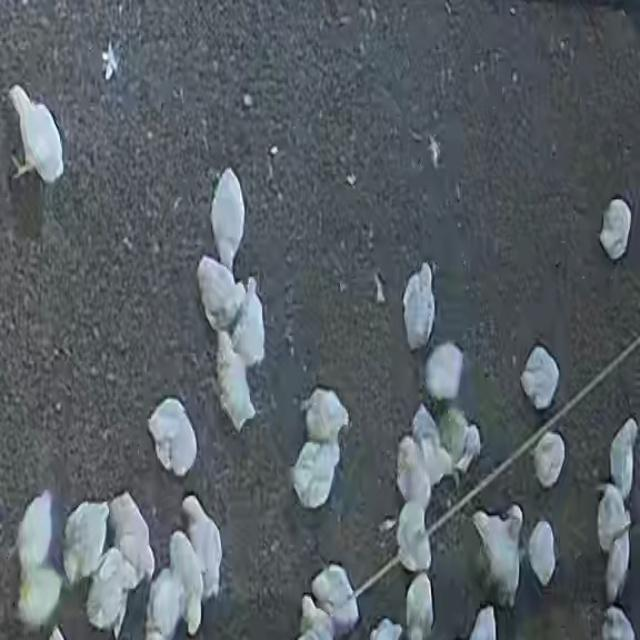chicken: (8, 85, 64, 185), (471, 506, 523, 607), (106, 492, 154, 589), (182, 494, 224, 600), (86, 548, 137, 634), (63, 498, 111, 585), (215, 335, 258, 431), (146, 397, 196, 479), (168, 529, 205, 636), (16, 490, 58, 584), (211, 167, 246, 273), (310, 561, 359, 636), (197, 256, 244, 332), (290, 439, 341, 508), (410, 404, 449, 489), (17, 564, 66, 630), (231, 277, 266, 367), (144, 568, 186, 640), (402, 264, 436, 350), (396, 498, 432, 574), (302, 387, 349, 445), (442, 412, 482, 478), (520, 346, 560, 410), (396, 436, 432, 505), (608, 419, 638, 499), (596, 483, 630, 552), (425, 344, 464, 404), (531, 431, 567, 490), (599, 197, 632, 261), (404, 571, 433, 640), (605, 530, 632, 604), (528, 520, 556, 589), (296, 594, 335, 637), (600, 605, 636, 640), (466, 607, 498, 640)
